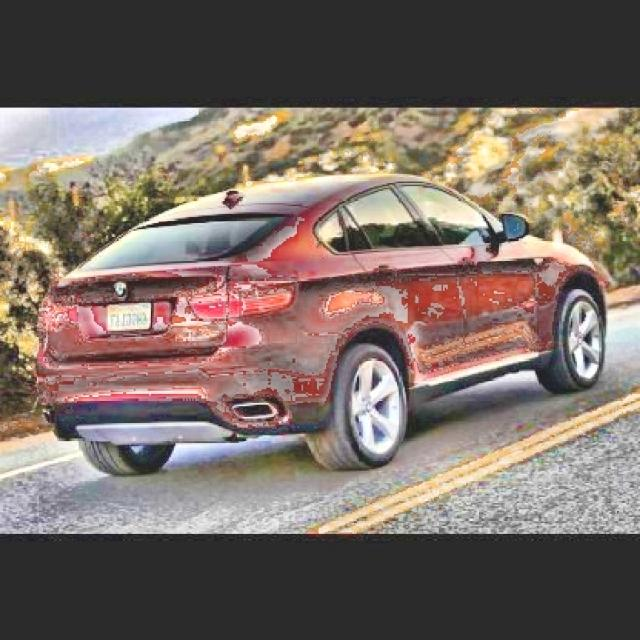maroon: (33, 169, 604, 468)
